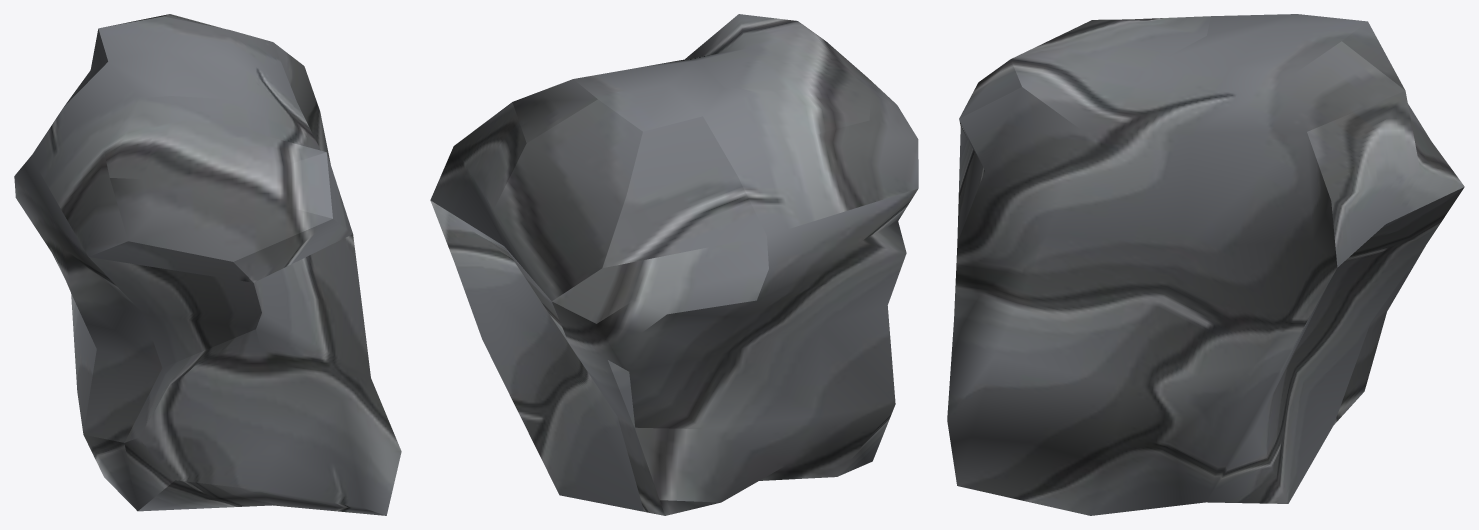
File: Model-rock02.fbx
3 renders of one model, left to right at view 1: azimuth 30°, elevation 25°; view 2: azimuth 150°, elevation 25°; view 3: azimuth 270°, elevation 25°, orthographic. The views are drawn at different scales.
Visible parts, largest first — view 1: rock02.001; view 2: rock02.001; view 3: rock02.001.
Boxes of the visible parts, bbox=[...] form: rock02.001: bbox=[14, 14, 401, 515]; rock02.001: bbox=[430, 14, 918, 515]; rock02.001: bbox=[947, 14, 1464, 515].
Bounding box in the file's own units: 2.31 × 2.54 × 2.77.
